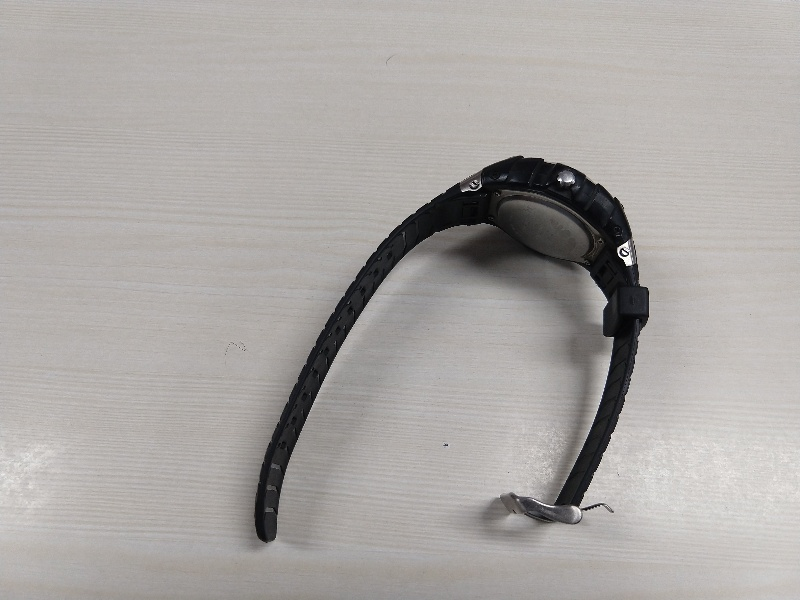watch: (240, 147, 653, 553)
